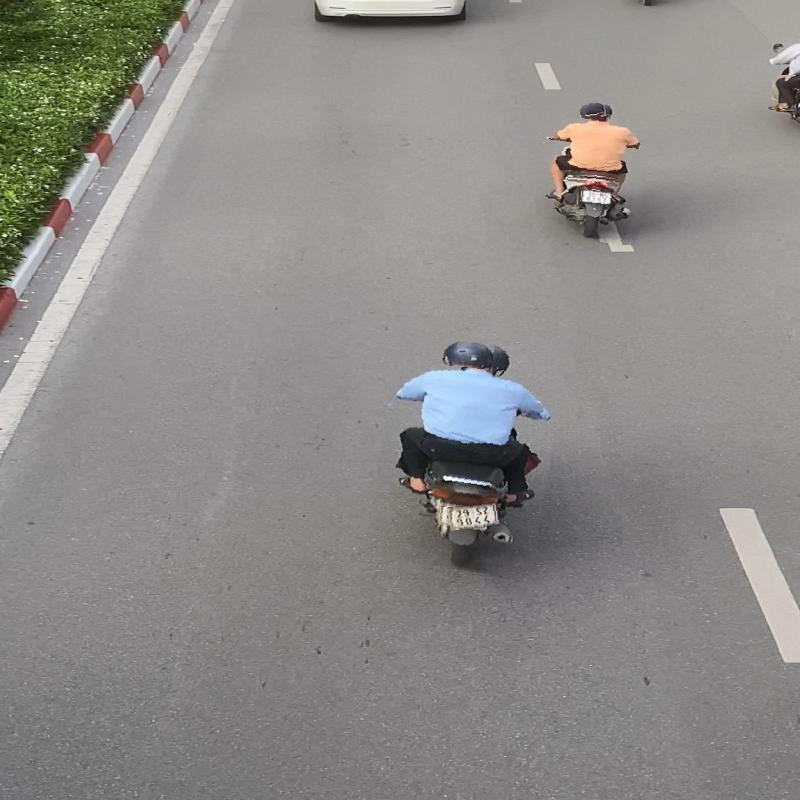helmet: (442, 340, 493, 369)
licenseplate: (448, 504, 499, 530), (582, 190, 612, 204)
motorcyclist: (372, 332, 560, 576), (534, 98, 648, 244)
nohelmet: (580, 102, 606, 119)
